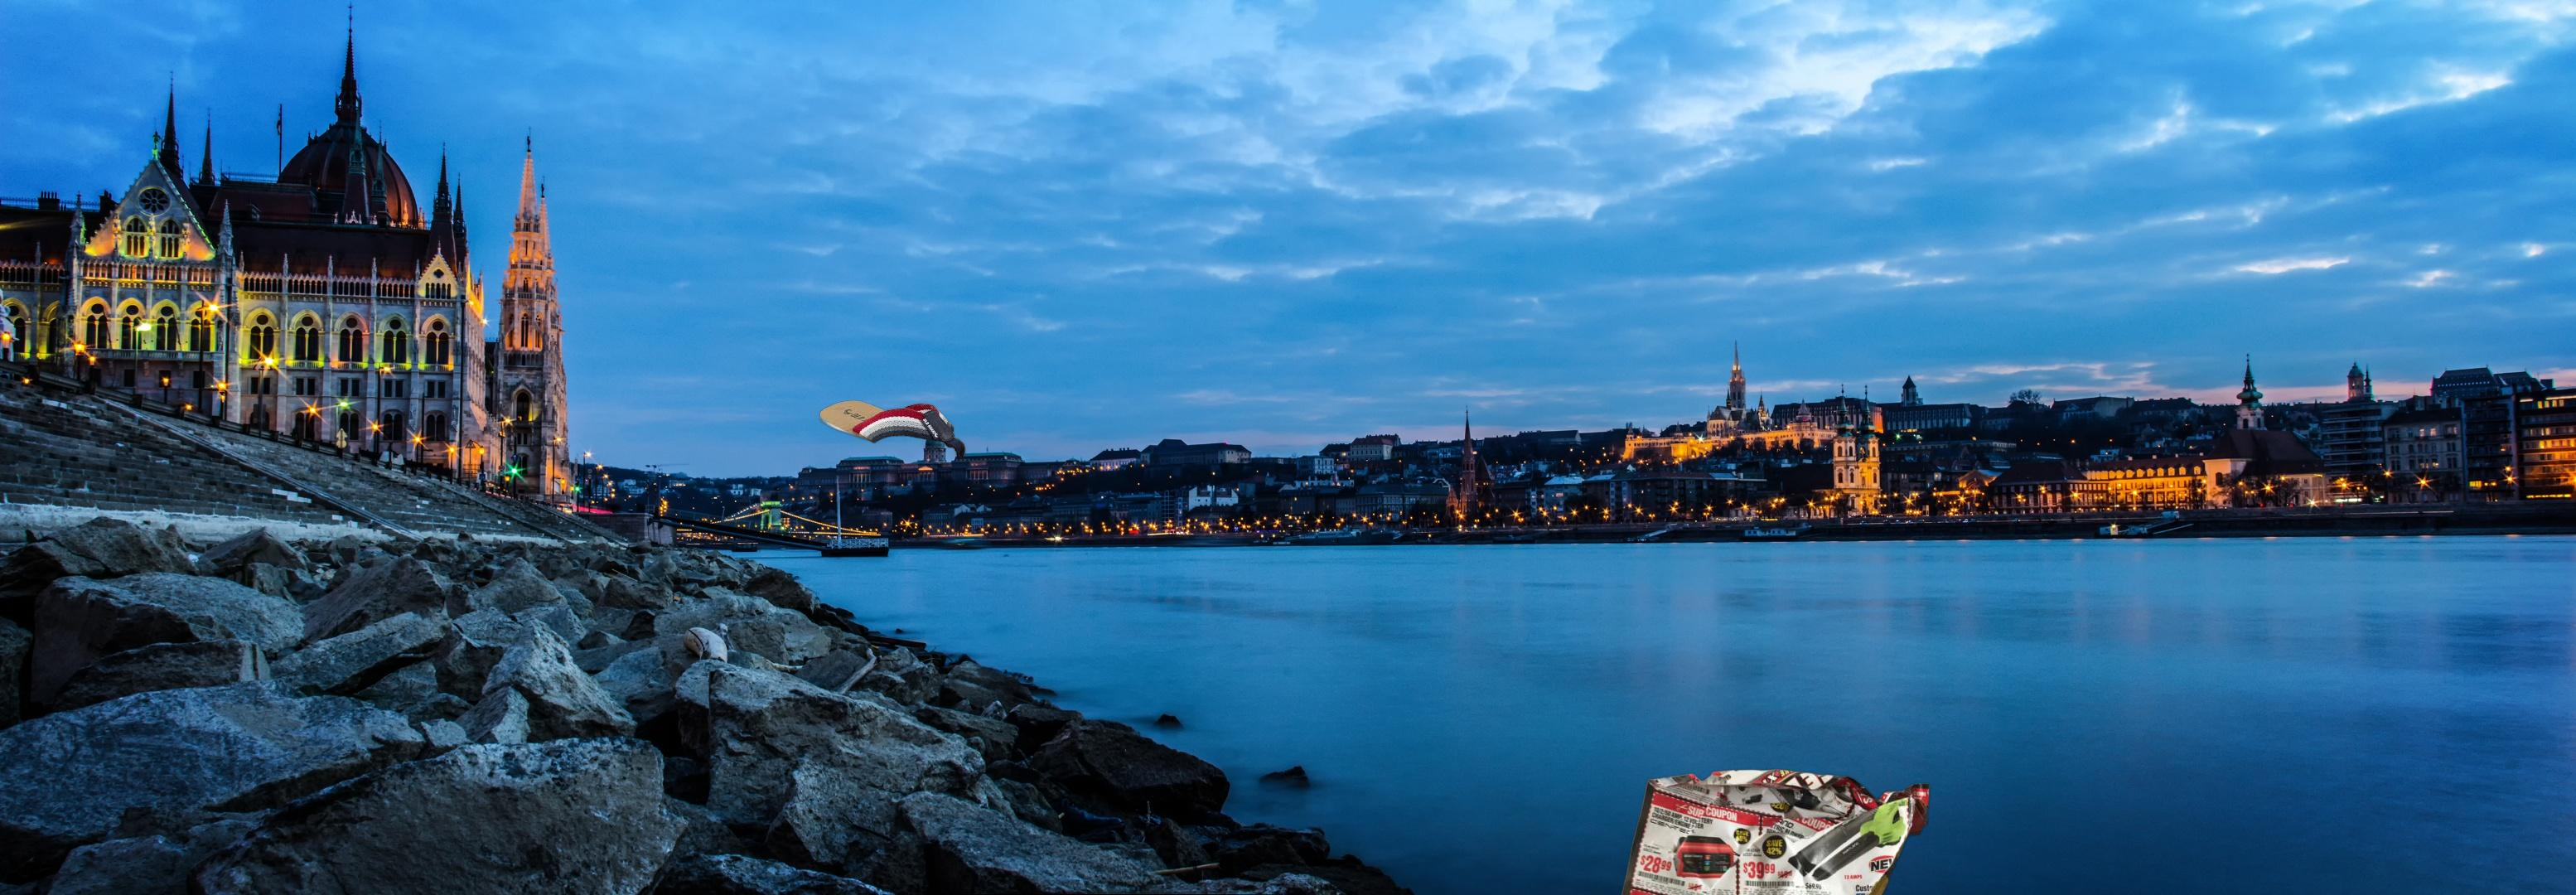paper: (1597, 767, 1935, 895)
shoes: (816, 397, 969, 461)
